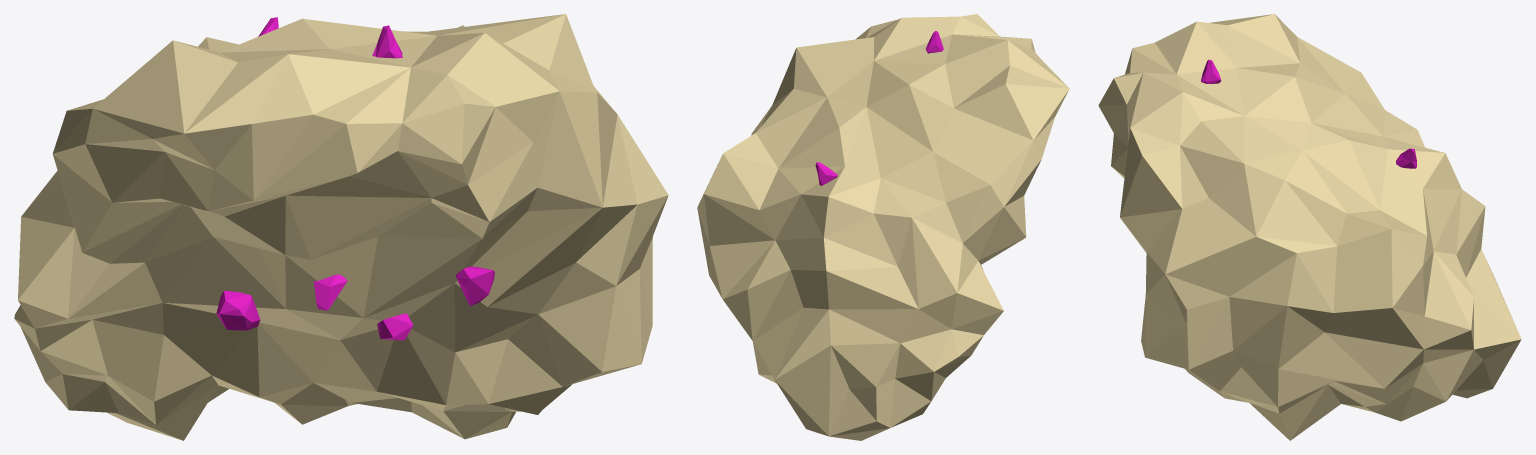
The model's file is CrystalOre (17).fbx.
3 views of the same model, side by side, from view 1: azimuth 30°, elevation 25°; view 2: azimuth 150°, elevation 25°; view 3: azimuth 270°, elevation 25° (orthographic). The views are drawn at different scales.
Visible parts, largest first — view 1: Asteroid237; view 2: Asteroid237; view 3: Asteroid237.
Part boxes in pixels (x1=…): Asteroid237: x1=14, y1=14, x2=668, y2=440; Asteroid237: x1=697, y1=14, x2=1069, y2=440; Asteroid237: x1=1098, y1=14, x2=1521, y2=440.
Bounding box in the file's own units: 435 × 439 × 486.
